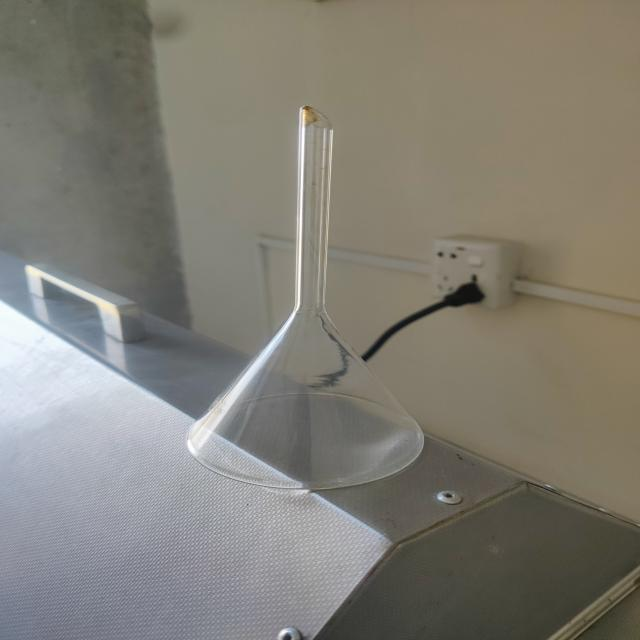Funnel: (146, 61, 482, 526)
